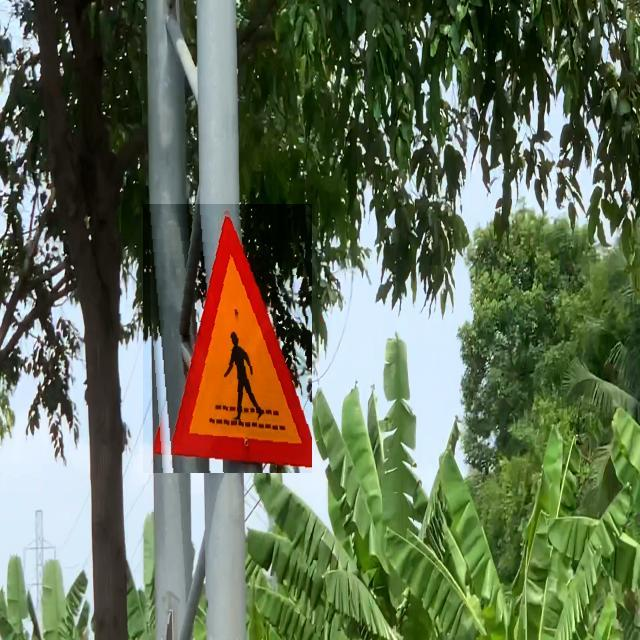W-224: (143, 204, 312, 473)
